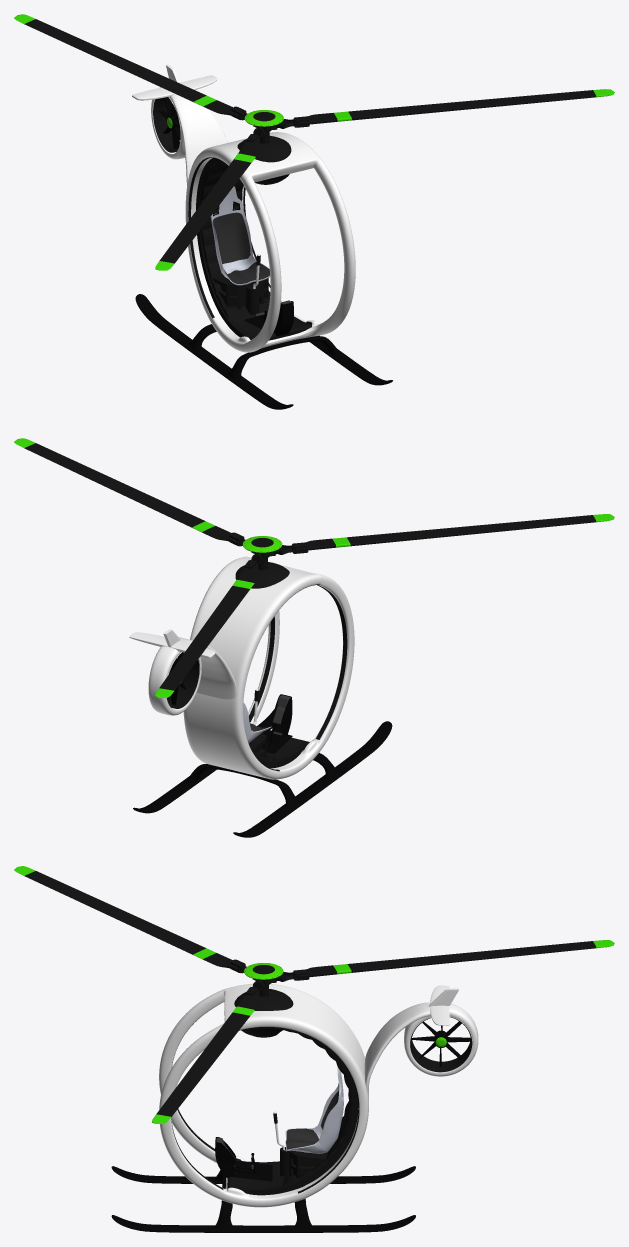
The model's file is helicoptero.fbx.
3 renders of one model, top to bottom at view 1: azimuth 30°, elevation 25°; view 2: azimuth 150°, elevation 25°; view 3: azimuth 270°, elevation 25°, orthographic.
Parts seen in each view (by area): view 1: Helicoptero, Helices, Helices Traseras; view 2: Helicoptero, Helices; view 3: Helicoptero, Helices, Helices Traseras.
Boxes of the visible parts, box(x1,y1,x2,y2) form: Helicoptero: box(132, 64, 392, 409); Helices: box(14, 14, 614, 270); Helices Traseras: box(159, 97, 180, 148); Helicoptero: box(129, 556, 392, 837); Helices: box(14, 438, 614, 697); Helicoptero: box(111, 983, 478, 1232); Helices: box(14, 866, 614, 1123); Helices Traseras: box(411, 1021, 470, 1067).
Size of the model in its own units: 634 by 272 by 624.
